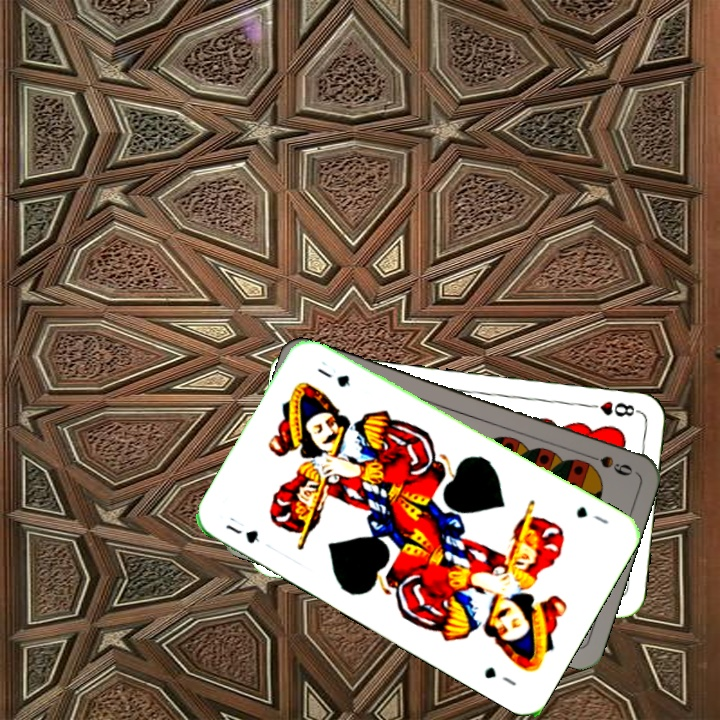GU: (221, 520, 263, 547), (572, 502, 611, 527)
H8: (582, 397, 642, 419)
S9: (578, 449, 636, 479)
